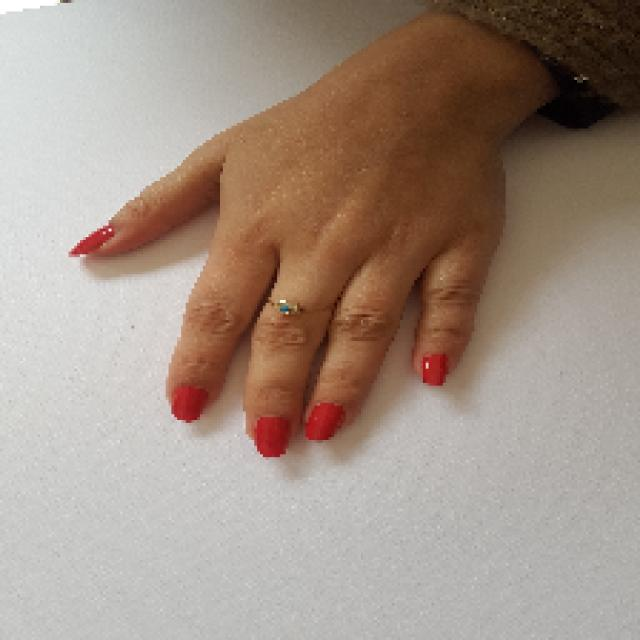Nail: (306, 403, 345, 440), (171, 385, 209, 422), (255, 418, 289, 458), (72, 225, 114, 255), (422, 354, 448, 386)
